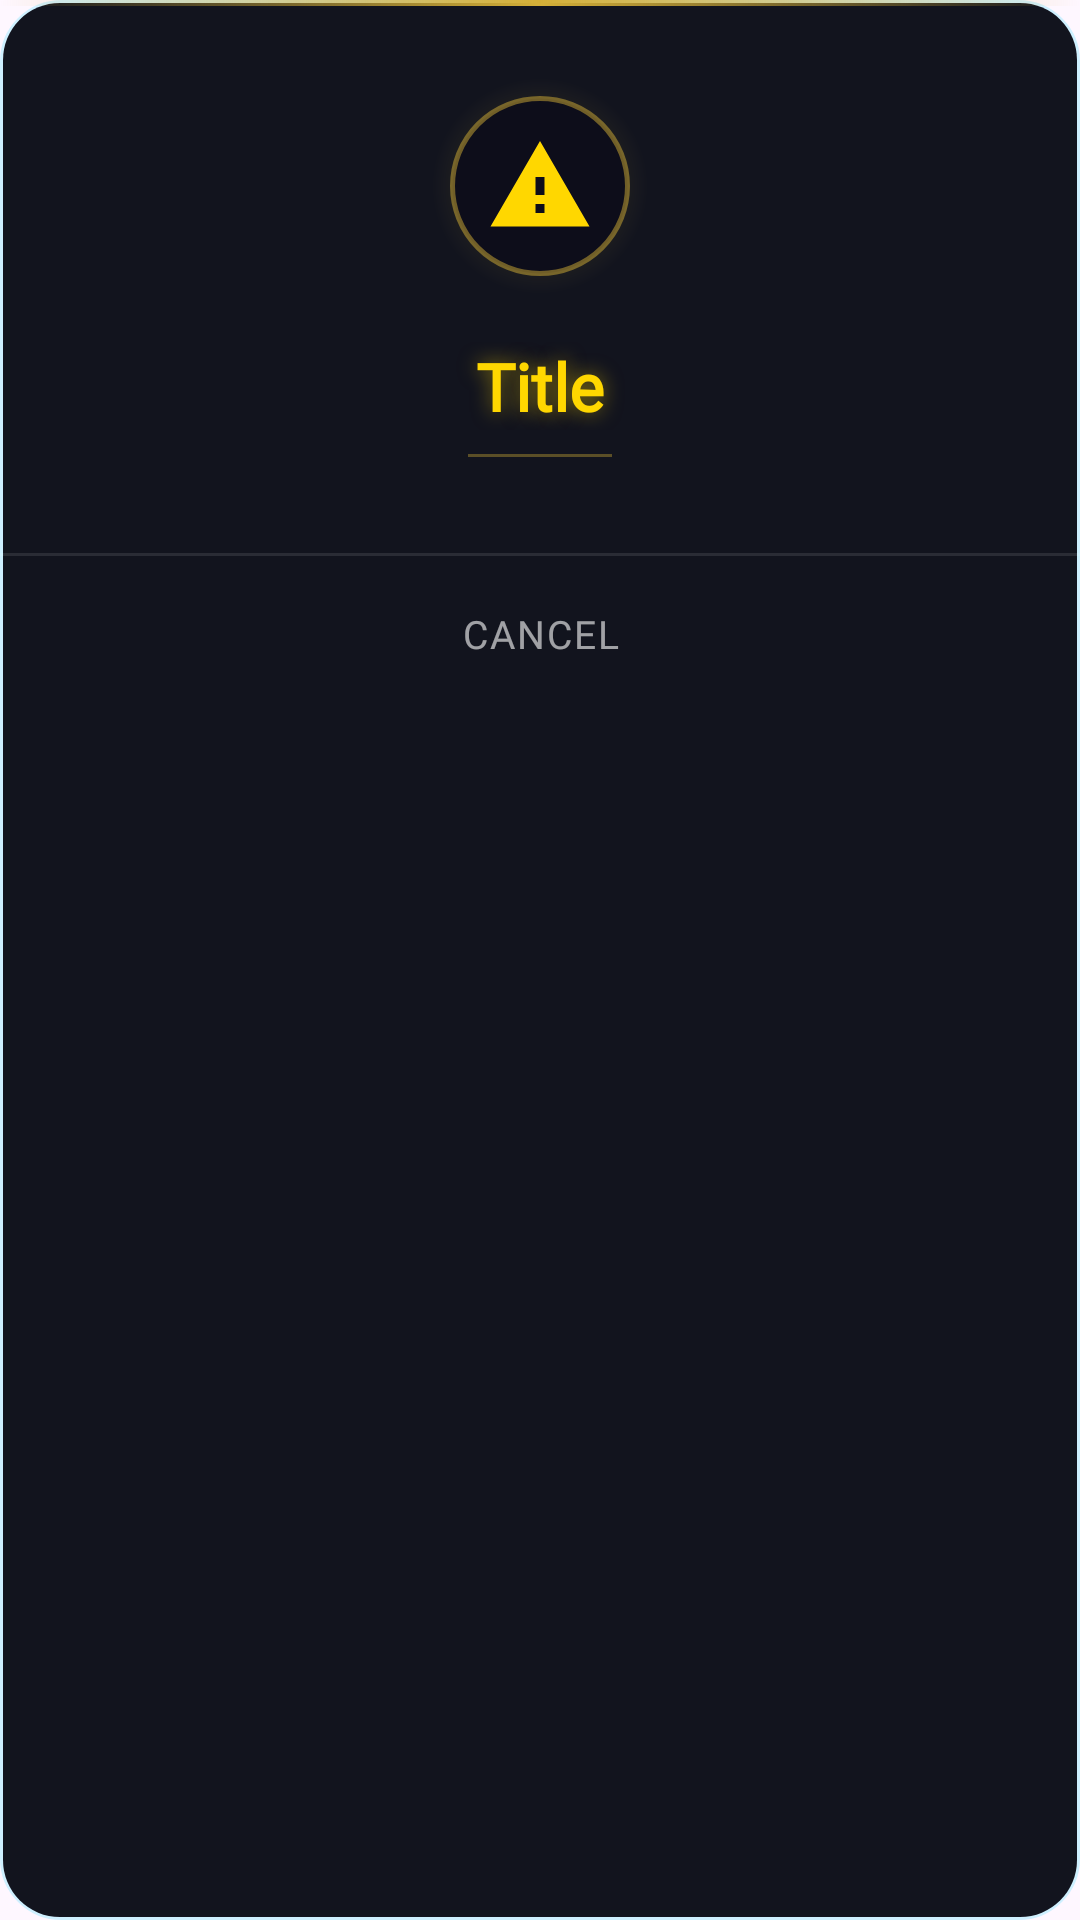

Screen size 1080 x 1920. Icon name, then its center in pixels as (x,y):
warning ember: (540,184)
